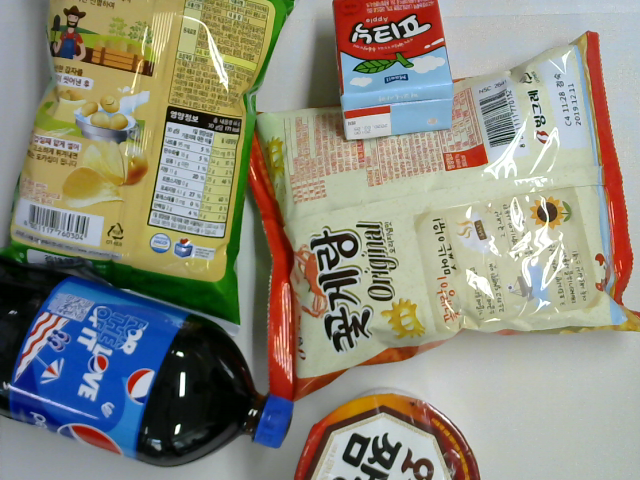Crabrang: (244, 30, 640, 403)
Ojjam: (293, 389, 481, 480)
Pepsi_Cola_1.5L: (1, 256, 294, 467)
Picnic_Apple: (330, 1, 454, 142)
Pocachip_Onion: (1, 1, 298, 328)
